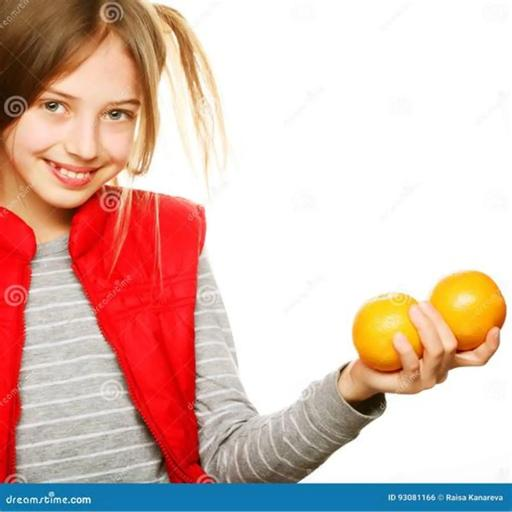orange: (429, 271, 506, 350), (353, 293, 423, 371)
